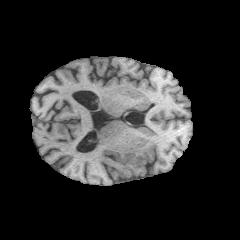glioma: (102, 145, 154, 174)
